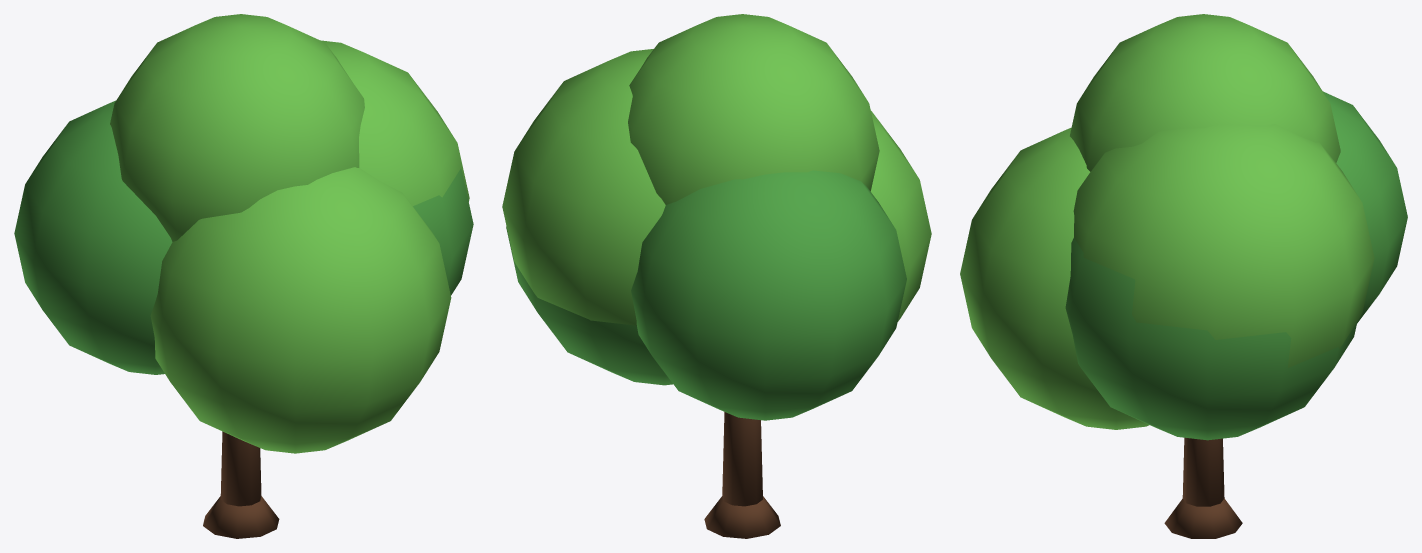
The model's file is tree_round.gltf.
3 renders of one model, left to right at view 1: azimuth 30°, elevation 25°; view 2: azimuth 150°, elevation 25°; view 3: azimuth 270°, elevation 25°, orthographic.
Visible parts, largest first — view 1: tree_round_mesh; view 2: tree_round_mesh; view 3: tree_round_mesh.
Boxes of the visible parts, x1,y1,x2,y2 form: tree_round_mesh: (14, 14, 473, 538); tree_round_mesh: (502, 14, 931, 538); tree_round_mesh: (960, 14, 1407, 538).
Size of what is drawn, in the model's own units: 4.6 by 5.59 by 4.57.
